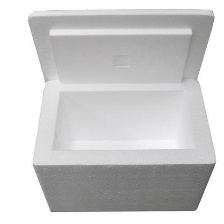foam_box: (25, 4, 219, 217)
